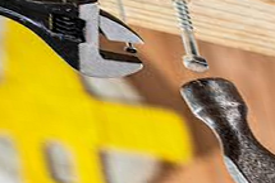Wrench: (1, 1, 158, 79)
